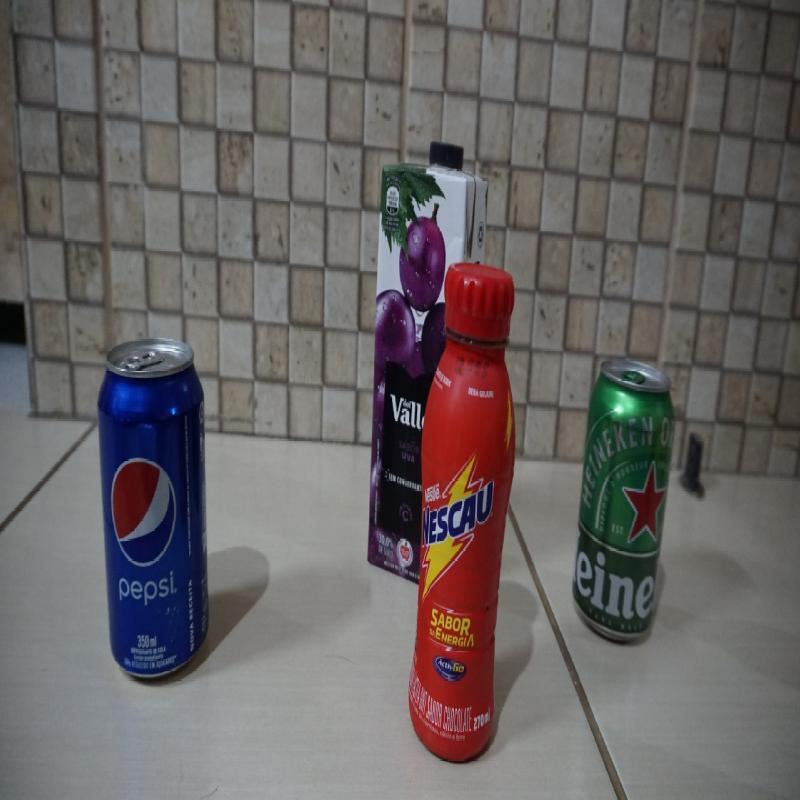Beer can: (572, 359, 677, 643)
Chocolate Milk: (409, 263, 517, 760)
Soda can: (98, 339, 208, 679)
